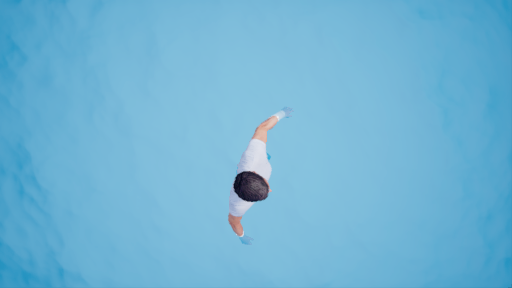person: (218, 106, 308, 237)
